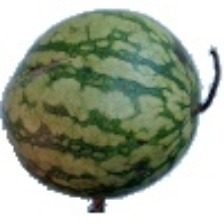watermelon: (39, 63, 188, 199)
